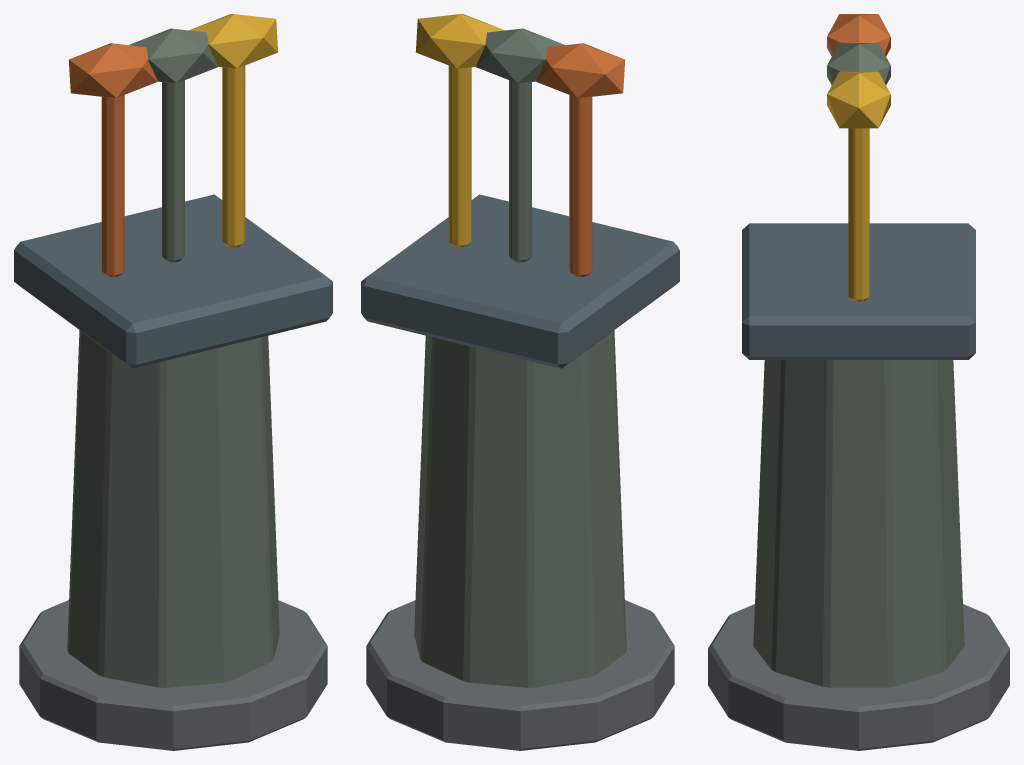
The model's file is PRP_CITY_034_umbrella_stand.glb.
3 views of the same model, side by side, from view 1: azimuth 30°, elevation 25°; view 2: azimuth 150°, elevation 25°; view 3: azimuth 270°, elevation 25° (orthographic). The views are drawn at different scales.
Parts seen in each view (by area): view 1: PRP_CITY_034_umbrella_stand_RenderMesh; view 2: PRP_CITY_034_umbrella_stand_RenderMesh; view 3: PRP_CITY_034_umbrella_stand_RenderMesh.
Boxes of the visible parts, x1,y1,x2,y2 form: PRP_CITY_034_umbrella_stand_RenderMesh: (14, 14, 332, 750); PRP_CITY_034_umbrella_stand_RenderMesh: (361, 14, 679, 750); PRP_CITY_034_umbrella_stand_RenderMesh: (708, 14, 1009, 750).
Size of the model in its own units: 0.62 by 1.46 by 0.62.
